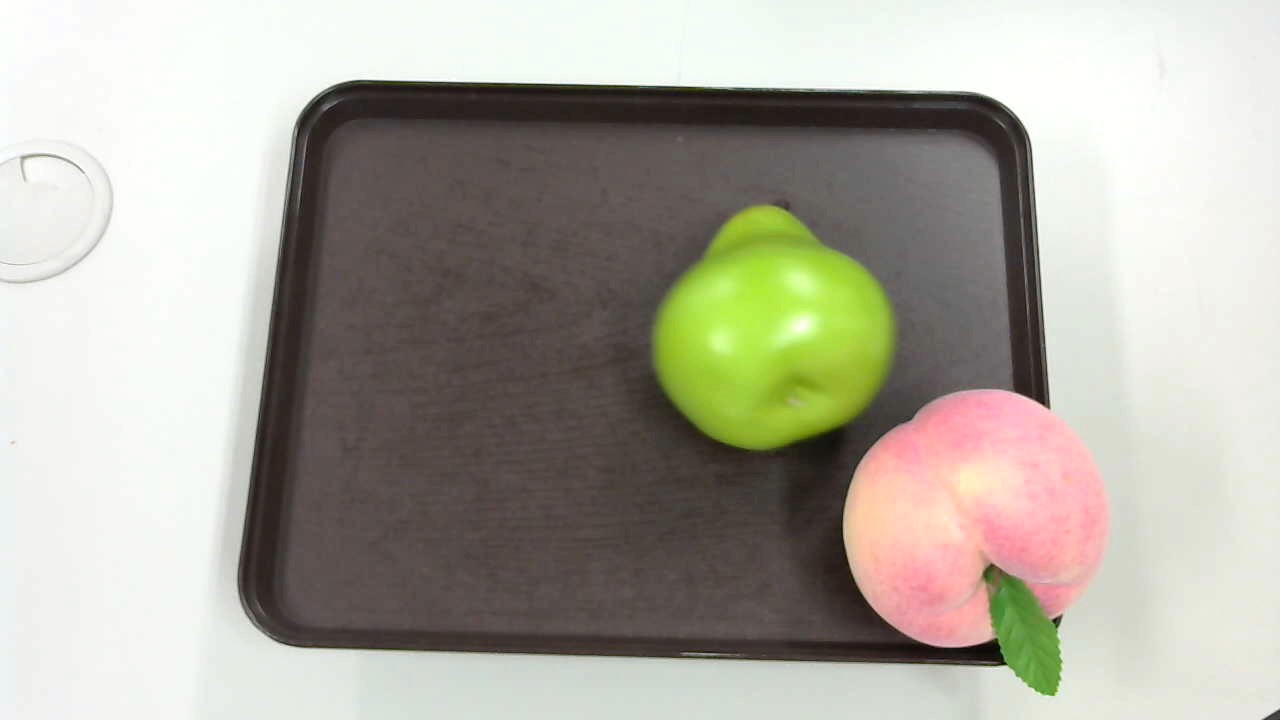green pear: (647, 195, 898, 453)
peach: (835, 386, 1117, 688)
